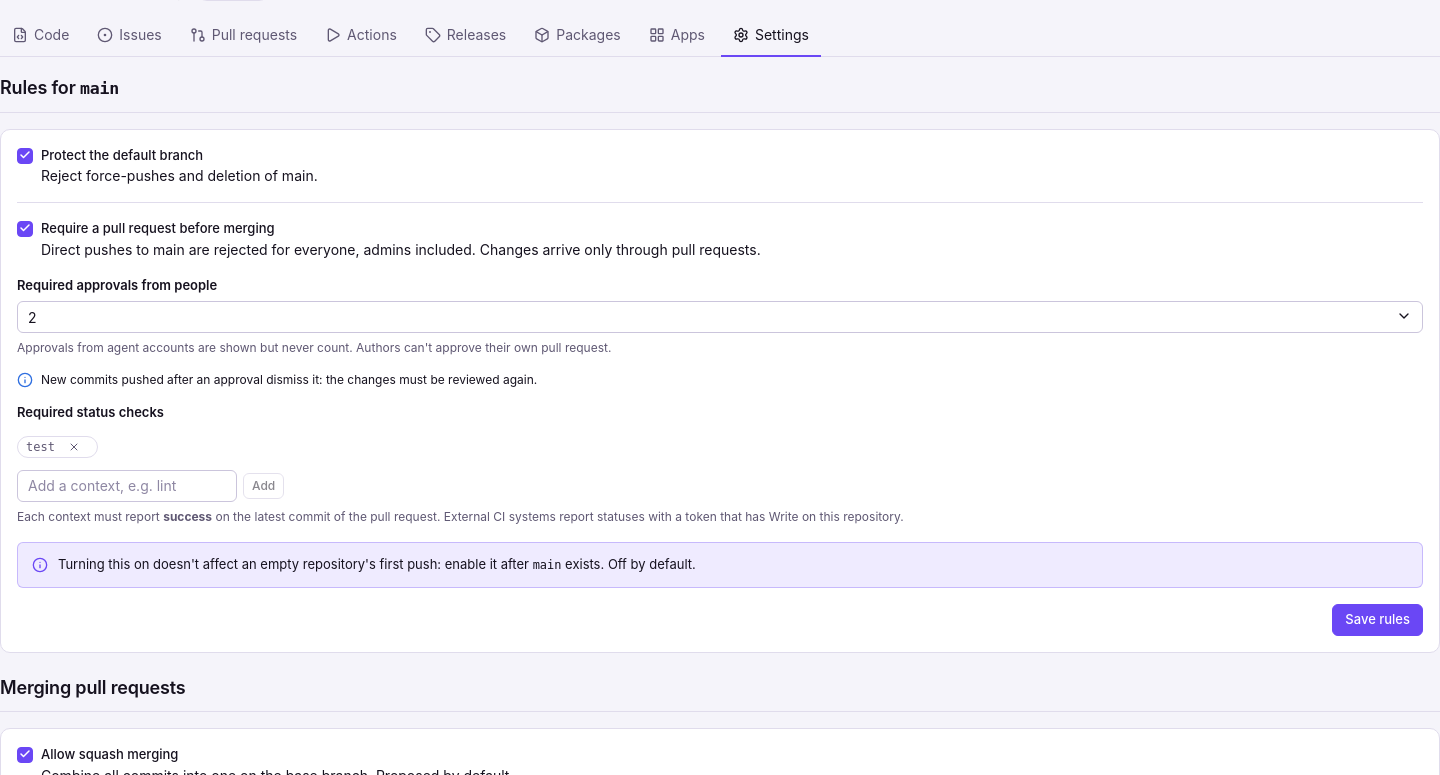
Test: BranchSettingsPage (mockup 28) › non lascia spegnere entrambi i metodi di merge
The width and height of the screenshot is (1440, 775).
Click the checkbox named "Allow squash merging" next to "Allow squash merging": (25, 755) [17, 747, 33, 763]
(page scrolled)
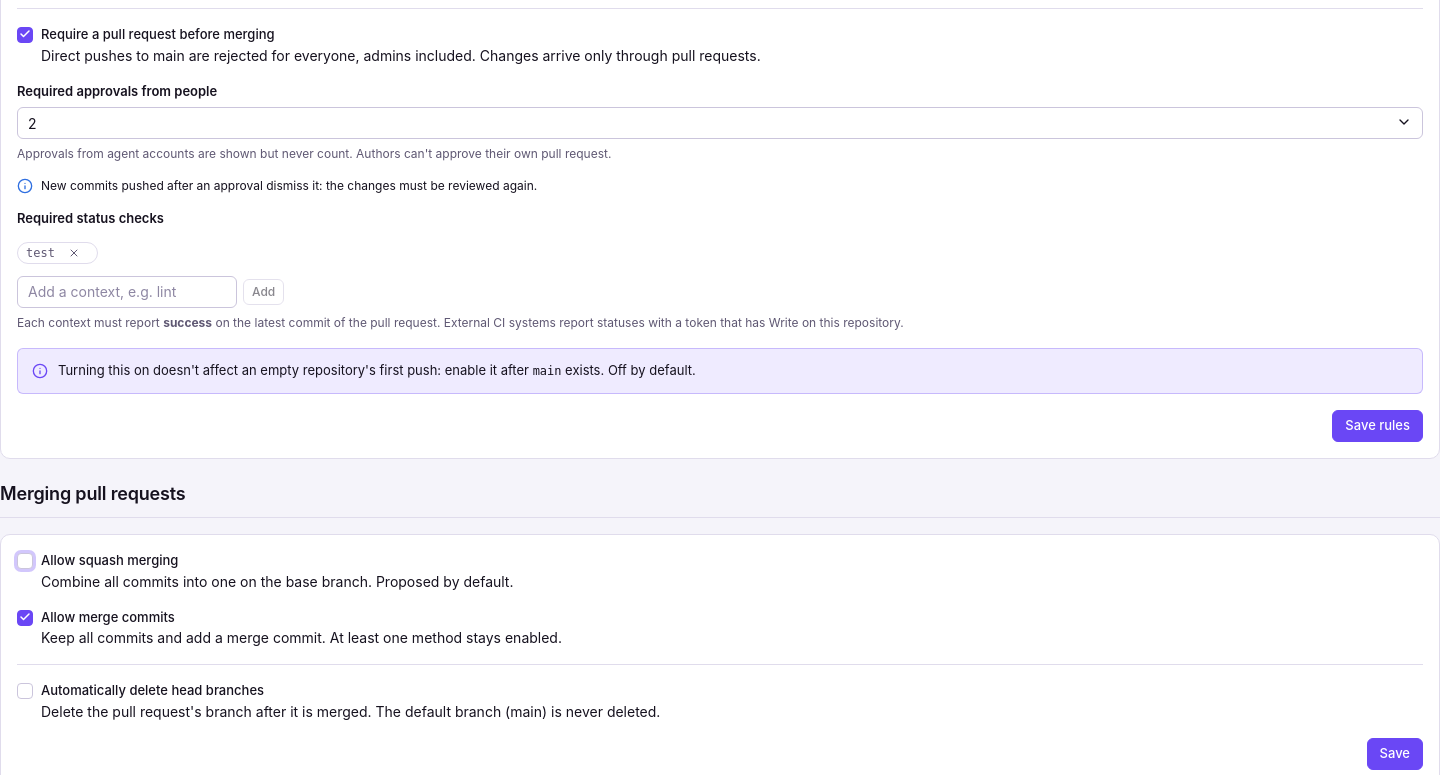
Click the checkbox named "Allow merge commits" next to "Allow merge commits": (25, 618) [17, 610, 33, 626]
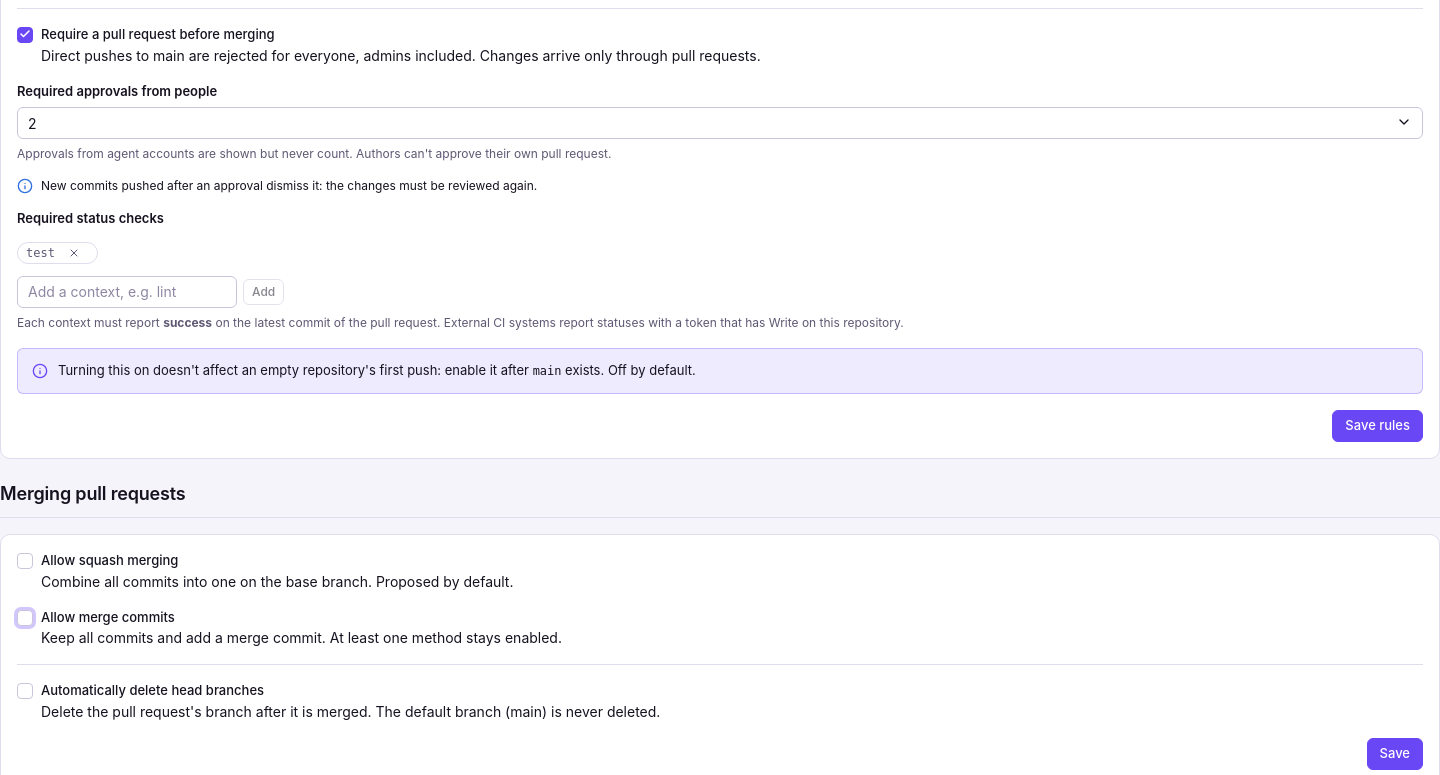
Click the button "Save": (1395, 754) [1367, 738, 1423, 770]
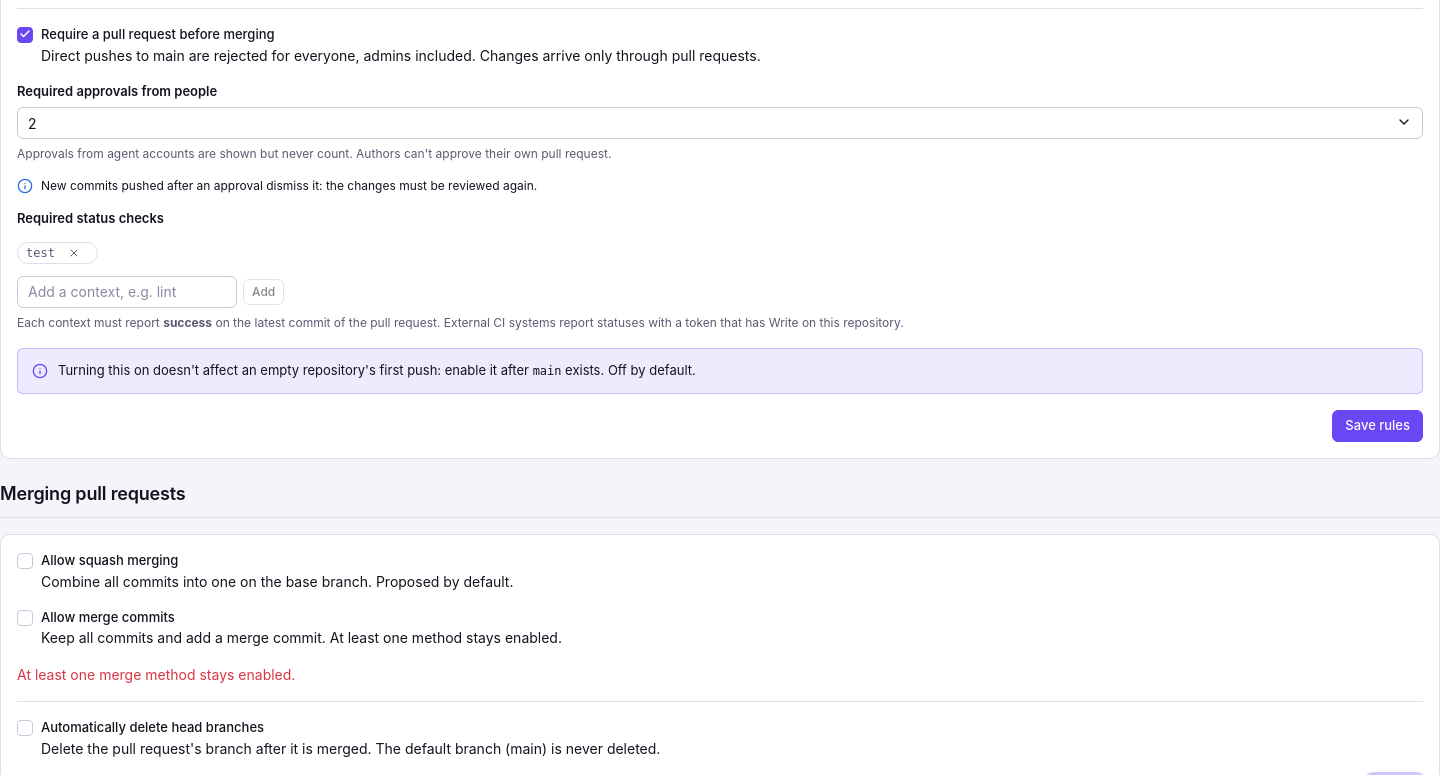
Expected: the message reads "At least one merge method stays enabled.", [17, 666, 295, 683]
